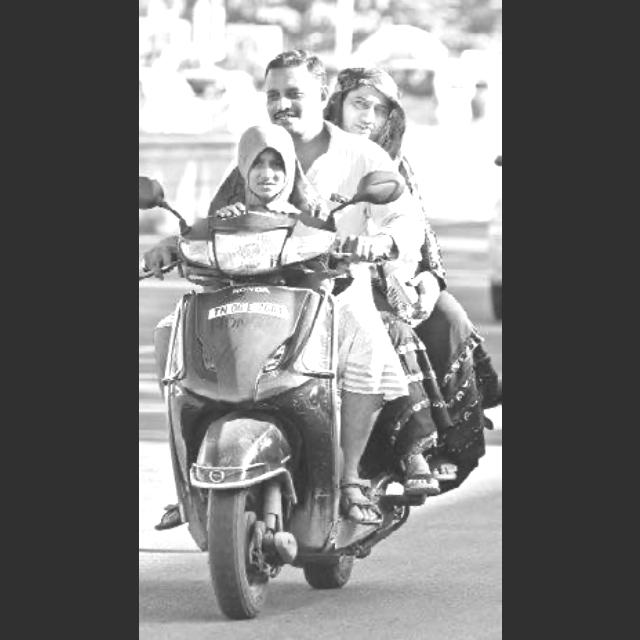Without Helmet: (248, 44, 336, 142)
